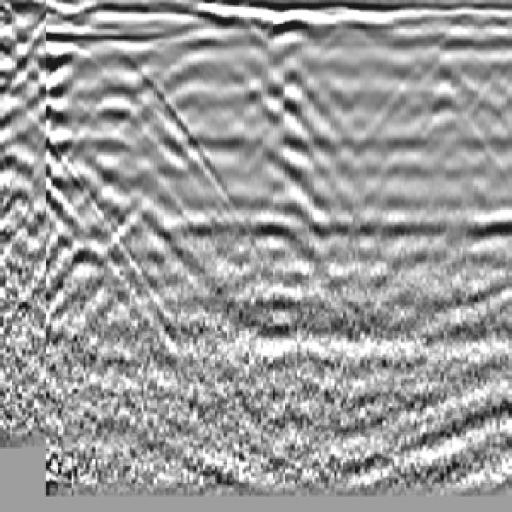non-metallic: (10, 31, 211, 246), (230, 40, 361, 214)
